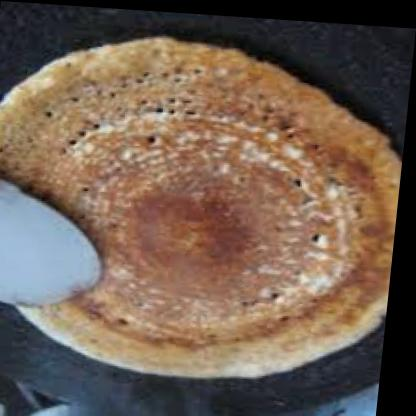dosa: (0, 25, 414, 381)
